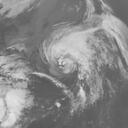cyclone: (44, 15, 102, 67)
